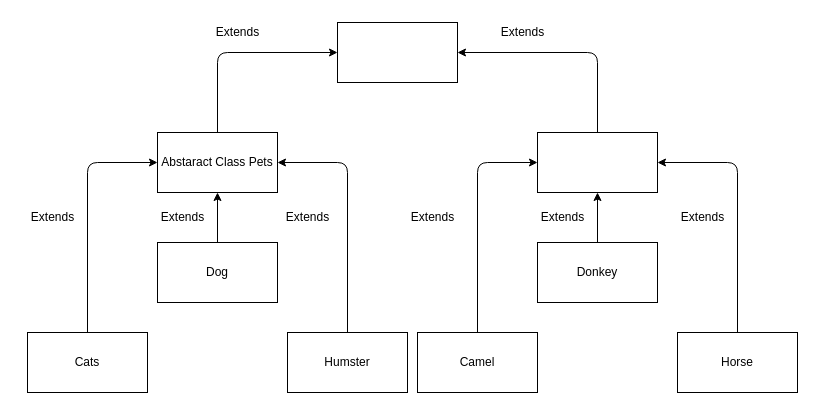
Image size: 815x410. Some labels were removed from this diagram. The centre of each missing label's shape, as x and y in pixels:
Abstaract Class Animal: point 397,52
Abstaract Class PackAnimal: point 597,162
